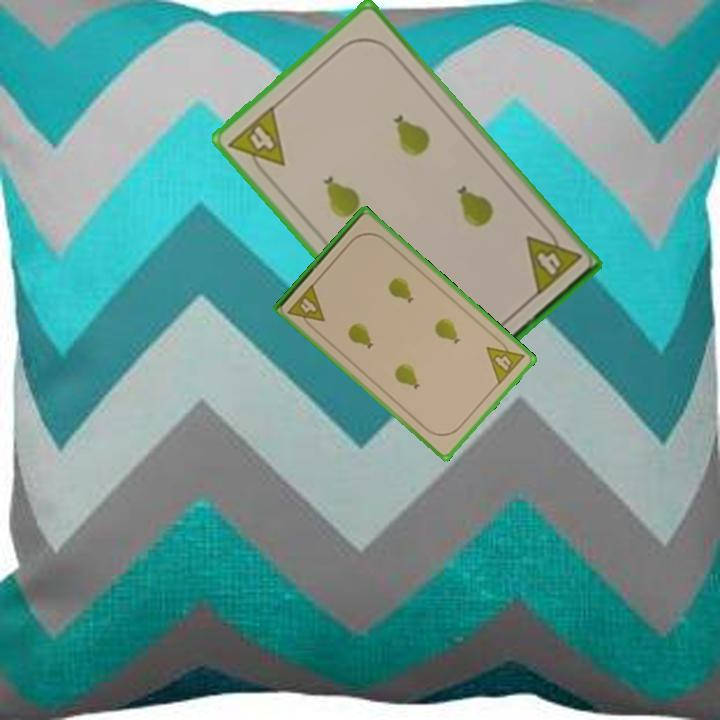4p: (224, 102, 288, 182), (522, 220, 584, 299), (483, 333, 528, 388), (284, 280, 328, 333)
